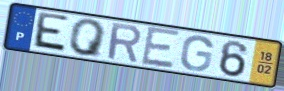6: (218, 39, 250, 78)
E: (140, 24, 183, 70), (30, 11, 71, 55)
G: (178, 35, 215, 73)
Q: (68, 18, 109, 60)
R: (106, 22, 143, 65)
